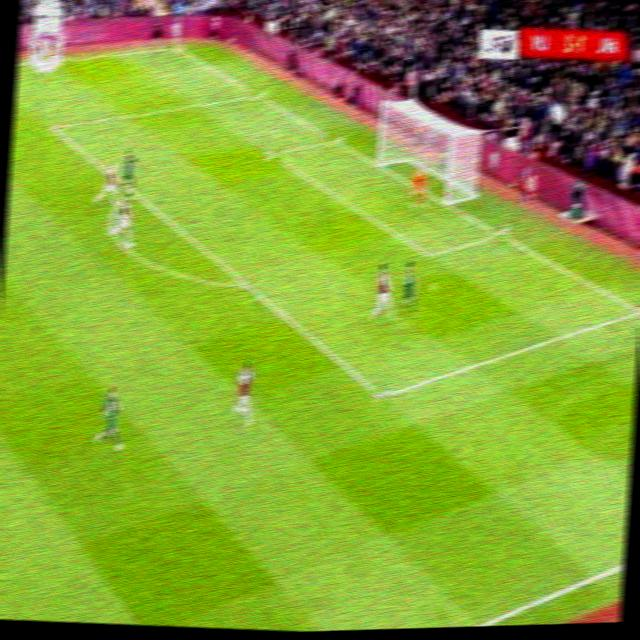bigarea_bottom_inner: (369, 380, 394, 409)
bigarea_bottom_outter: (630, 299, 640, 321)
bigarea_top_inner: (42, 114, 62, 140)
bigarea_top_outter: (248, 85, 266, 103)
bottom_arc_area_intersection: (234, 271, 258, 298)
corner: (165, 40, 186, 55)
smallarea_bottom_inner: (418, 241, 439, 266)
smallarea_bottom_outter: (490, 222, 511, 244)
smallarea_top_inner: (262, 142, 282, 163)
smallarea_top_outter: (324, 128, 344, 150)
